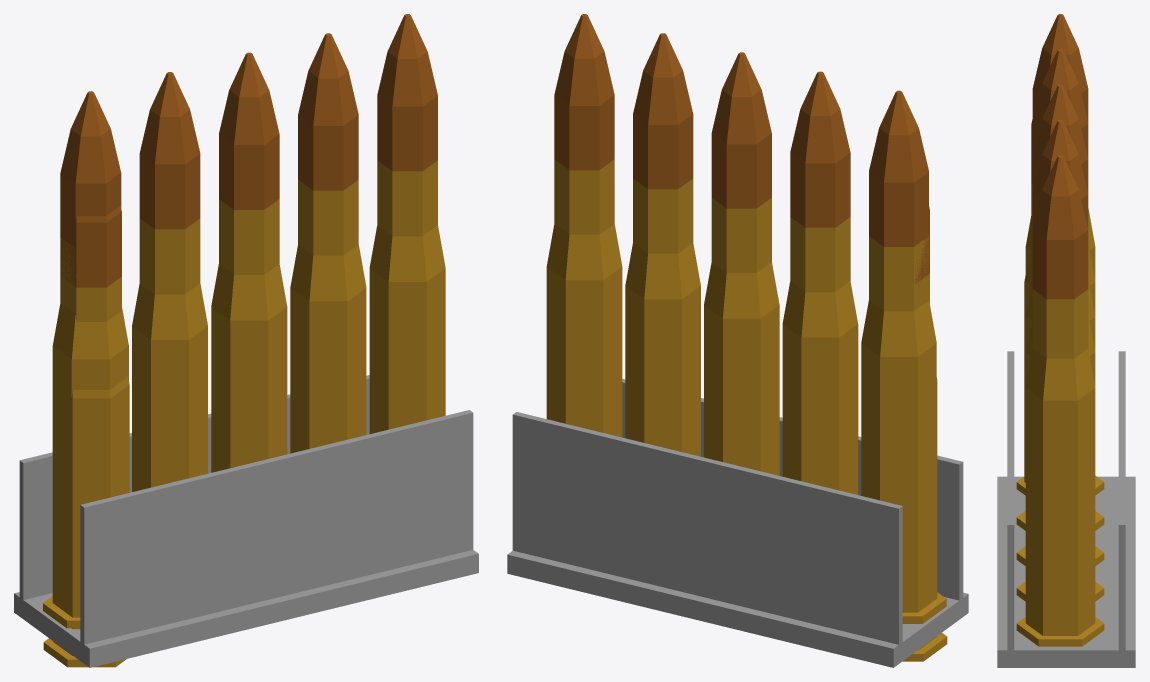
Rendered from rifle_bullet.fbx.
3 views of the same model, side by side, from view 1: azimuth 30°, elevation 25°; view 2: azimuth 150°, elevation 25°; view 3: azimuth 270°, elevation 25° (orthographic). The views are drawn at different scales.
Parts seen in each view (by area): view 1: 5xpatruuna, clip, hylsy, patruuna; view 2: 5xpatruuna, clip, hylsy; view 3: 5xpatruuna, clip, hylsy.
Part boxes in pixels (box(x1,y1,x2,y2)): 5xpatruuna: box(43, 14, 445, 628); clip: box(14, 375, 478, 667); hylsy: box(43, 277, 129, 667); patruuna: box(61, 206, 121, 287); 5xpatruuna: box(546, 14, 946, 623); clip: box(507, 378, 968, 667); hylsy: box(902, 274, 947, 661); 5xpatruuna: box(1016, 14, 1104, 646); clip: box(997, 351, 1135, 667); hylsy: box(1024, 183, 1032, 482).
Size of the model in its own units: 4.27 by 5.85 by 1.44.
